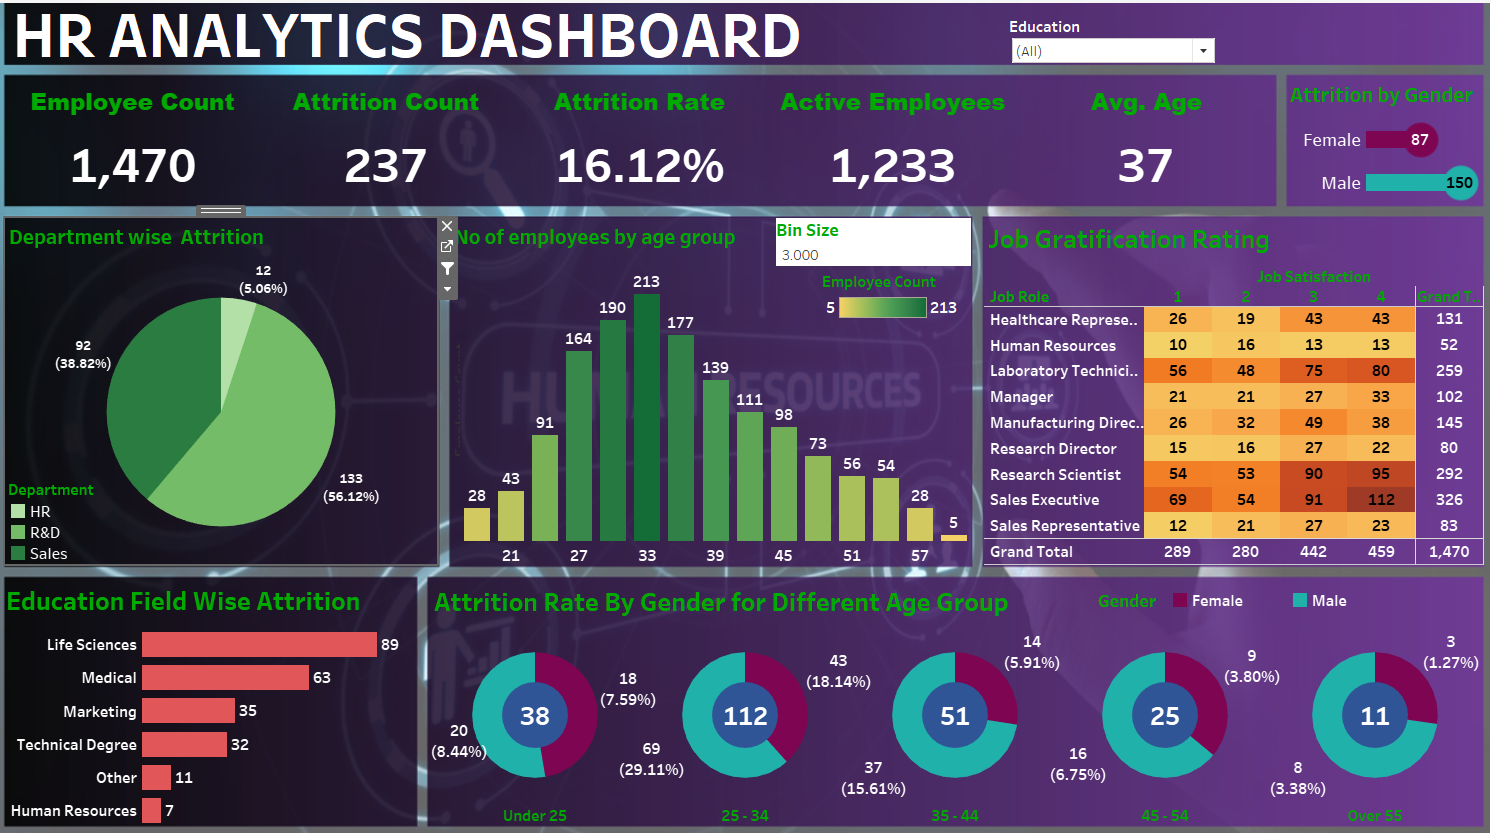

Layout of this report page (visuals, bound fields, positions):
{"tool":"tableau","page":{"name":"HR ANALYSIS","canvas":[1500,900],"ordinal":0},"visuals":[{"type":"image","param":"Image/HR background.pptx (1).png","box":[0,0,1500,900]},{"type":"text","box":[15,37,835,62]},{"type":"filter","title":"Department wise  Attrition","param":"[federated.04cll2x1pvm2px184bdvv13f6wow].[none:Education:nk]","box":[1015,39,186,54]},{"type":"worksheet","title":"Attrition by Gender","mark":"Automatic","rows":["Gender"],"cols":["Calculation_1373879423687892992","Calculation_1373879423687892992"],"box":[1292,112,197,128]},{"type":"worksheet","title":"KPI","mark":"Automatic","box":[12,114,1267,129]},{"type":"worksheet","title":"Job Gratification Rating","mark":"Square","rows":["Job Role"],"cols":["Job Satisfaction"],"box":[990,253,500,348]},{"type":"worksheet","title":"Department wise  Attrition","mark":"Pie","box":[11,254,432,346]},{"type":"worksheet","title":"No of employees by age group","mark":"Automatic","rows":["Employee Count"],"cols":["Age (bin)"],"box":[456,254,521,348]},{"type":"parameter","param":"[Parameters].[Age Parameter]","box":[782,254,195,48]},{"type":"legend","title":"No of employees by age group","param":"[federated.04cll2x1pvm2px184bdvv13f6wow].[sum:Employee Count:qk]","box":[828,307,140,49]},{"type":"legend","title":"Department wise  Attrition","param":"[federated.04cll2x1pvm2px184bdvv13f6wow].[none:Department:nk]","box":[14,515,104,85]},{"type":"worksheet","title":"Education Field Wise Attrition","mark":"Automatic","rows":["Education Field"],"cols":["Calculation_1373879423687892992"],"box":[8,615,415,248]},{"type":"worksheet","title":"Attrition Rate By Gender for Different Age Group","mark":"Pie","rows":["Calculation_1631991977729331201","Calculation_1631991977729331201"],"cols":["CF_age band"],"box":[436,616,1050,246]},{"type":"legend","title":"Attrition Rate By Gender for Different Age Group","param":"[federated.04cll2x1pvm2px184bdvv13f6wow].[none:Gender:nk]","box":[1104,626,380,28]}]}

Visuals, with their boxes on the page's 1500x900 design canvas (x1, y1, x2, y2). These are canvas units, not pixel positions in the 1491x835 screenshot, which may show the page scaled, cropped or inside an application window:
image: rect(0, 0, 1500, 900)
text: rect(15, 37, 850, 99)
"Department wise  Attrition" filter: rect(1015, 39, 1201, 93)
"Attrition by Gender" worksheet: rect(1292, 112, 1489, 240)
"KPI" worksheet: rect(12, 114, 1279, 243)
"Job Gratification Rating" worksheet (Square marks): rect(990, 253, 1490, 601)
"Department wise  Attrition" worksheet (Pie marks): rect(11, 254, 443, 600)
"No of employees by age group" worksheet: rect(456, 254, 977, 602)
parameter: rect(782, 254, 977, 302)
"No of employees by age group" legend: rect(828, 307, 968, 356)
"Department wise  Attrition" legend: rect(14, 515, 118, 600)
"Education Field Wise Attrition" worksheet: rect(8, 615, 423, 863)
"Attrition Rate By Gender for Different Age Group" worksheet (Pie marks): rect(436, 616, 1486, 862)
"Attrition Rate By Gender for Different Age Group" legend: rect(1104, 626, 1484, 654)
